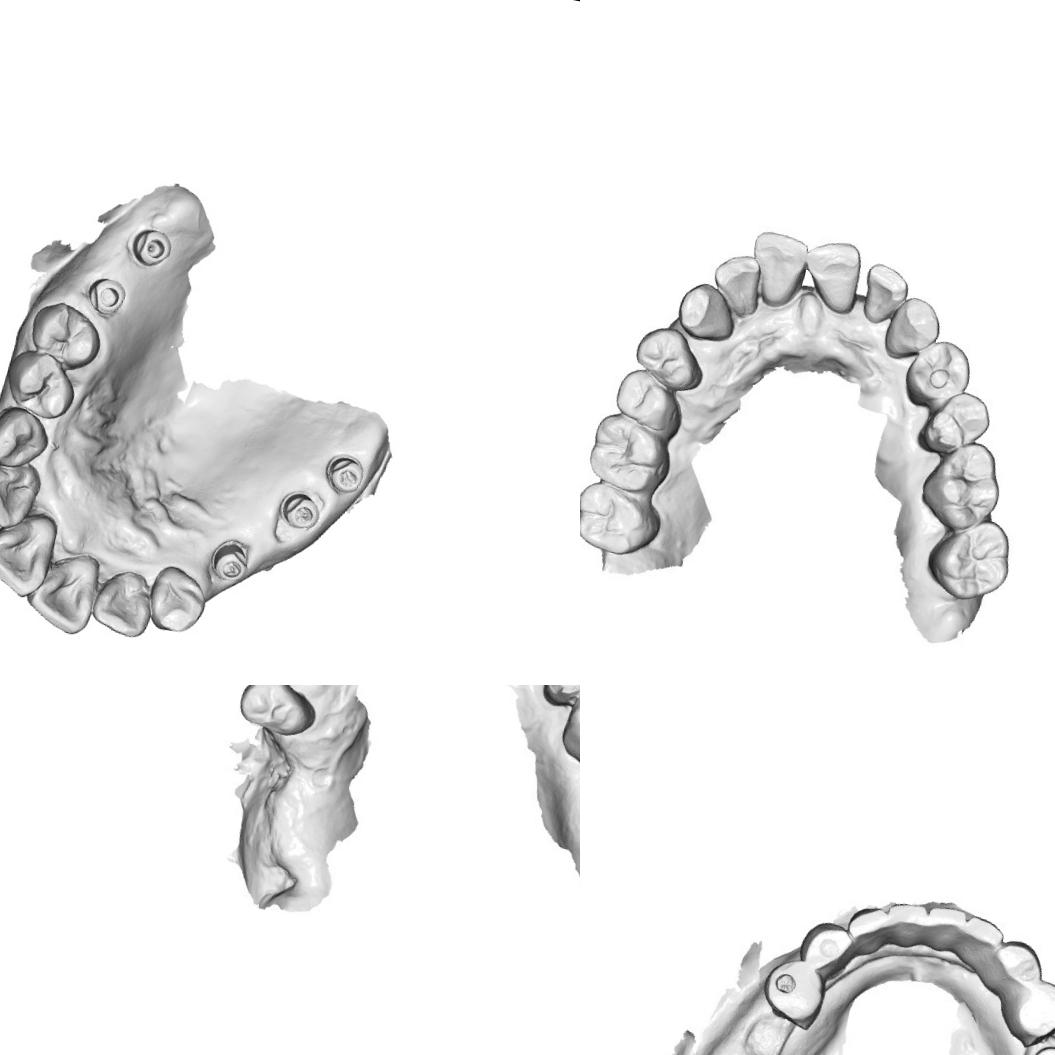canine: (141, 560, 210, 638), (879, 288, 947, 365), (671, 278, 741, 344), (984, 936, 1048, 1000), (792, 916, 854, 982), (0, 400, 53, 476)
implant: (123, 221, 174, 272), (320, 449, 370, 497), (277, 485, 325, 535), (207, 538, 254, 586), (85, 272, 130, 320)
incisor: (17, 553, 103, 639), (740, 222, 815, 314), (792, 232, 868, 318), (86, 570, 156, 641), (0, 513, 55, 600), (704, 249, 768, 322), (856, 258, 914, 328), (0, 458, 36, 530), (956, 914, 1008, 960), (920, 900, 970, 946), (845, 899, 890, 946), (884, 896, 928, 938)
molar: (920, 509, 1018, 608), (913, 433, 1007, 535), (583, 410, 676, 498), (580, 475, 658, 563), (553, 685, 580, 779)
premolar: (914, 381, 996, 462), (900, 330, 978, 414), (0, 343, 81, 423), (24, 296, 108, 373), (624, 320, 710, 395), (608, 364, 690, 437), (758, 952, 828, 1029), (233, 685, 325, 743), (997, 970, 1055, 1051), (537, 685, 580, 715)
